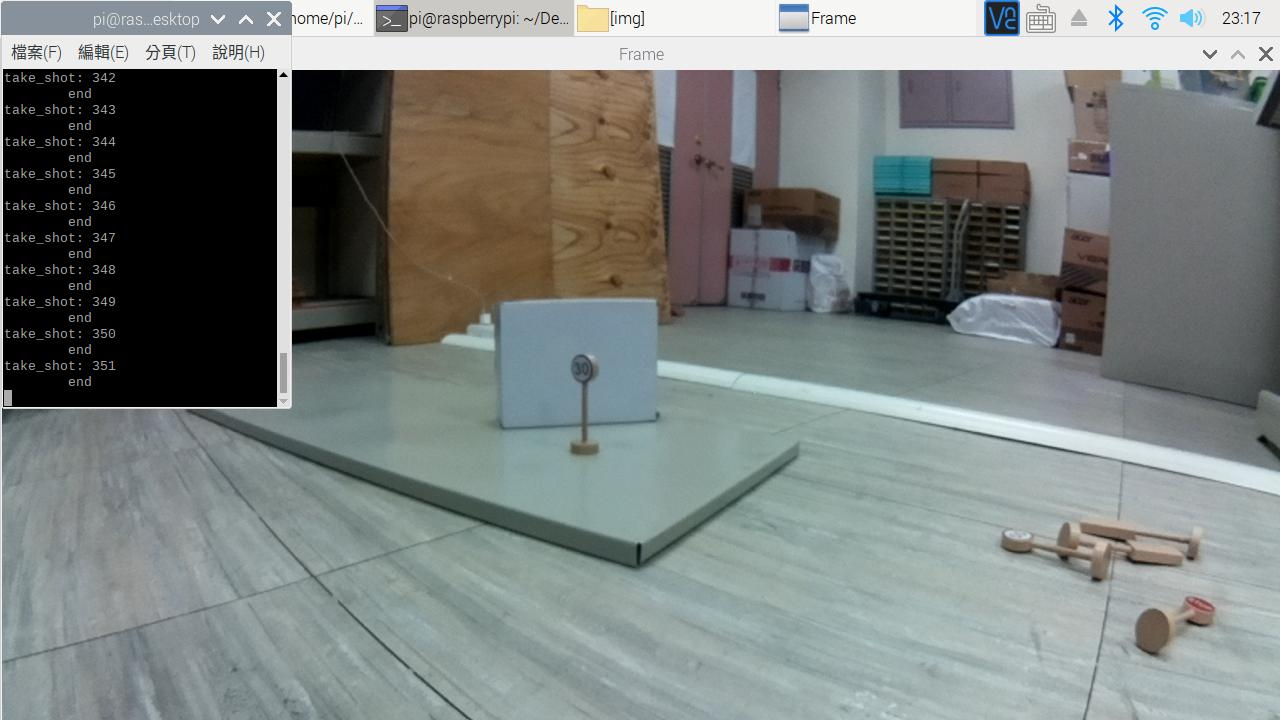Speed30: (564, 348, 612, 399)
